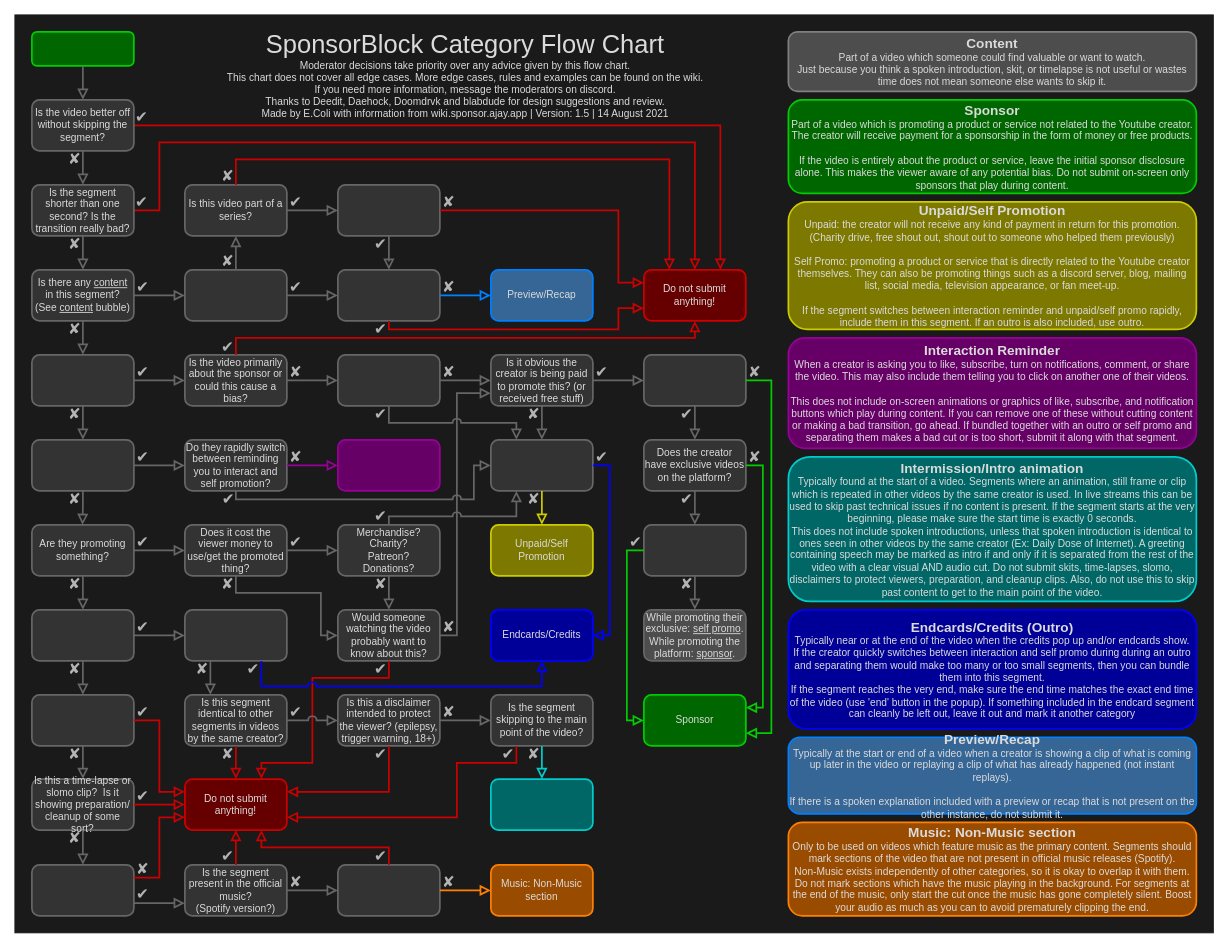
This 1228x948 diagram has some shape labels left out. The shapes that lost their labels are listed below. From the top down, each one's box as (x1, y1, x2, y2) in pixels, then its label:
(31, 31, 134, 66): START
(337, 184, 440, 236): Does this segment appear in the next or previous videos?
(184, 269, 287, 321): Does content from this segment appear later or earlier in this video?
(337, 269, 440, 321): Is there a spoken summary that is not present in the other appearance?
(31, 354, 134, 406): Is there a sponsor in this segment? (See sponsor bubble)
(337, 354, 440, 406): Is it obvious the sponsor is owned by the same company/person?
(643, 354, 746, 406): Is the sponsor Nebula or Curiosity Stream?
(31, 439, 134, 491): Are they asking you to like, subscribe, turn on notifications, comment or share?
(337, 439, 440, 491): Interaction Reminder
(490, 439, 593, 491): Are endcards present or would outro make sense if it was included?
(643, 524, 746, 576): Do they switch between promoting the platform and their exclusives rapidly?
(31, 609, 134, 661): Does this segment contain an animation or still frame? (May contain audio)
(184, 609, 287, 661): Is the segment located at or near the end of the video?
(31, 694, 134, 746): Is this a unique spoken introduction? Or a unique skit?
(490, 778, 593, 830): Intermission/Intro animation
(31, 864, 134, 916): Is music the primary aspect of the video?
(337, 864, 440, 916): Is part of the song playing in the background of the segment?
